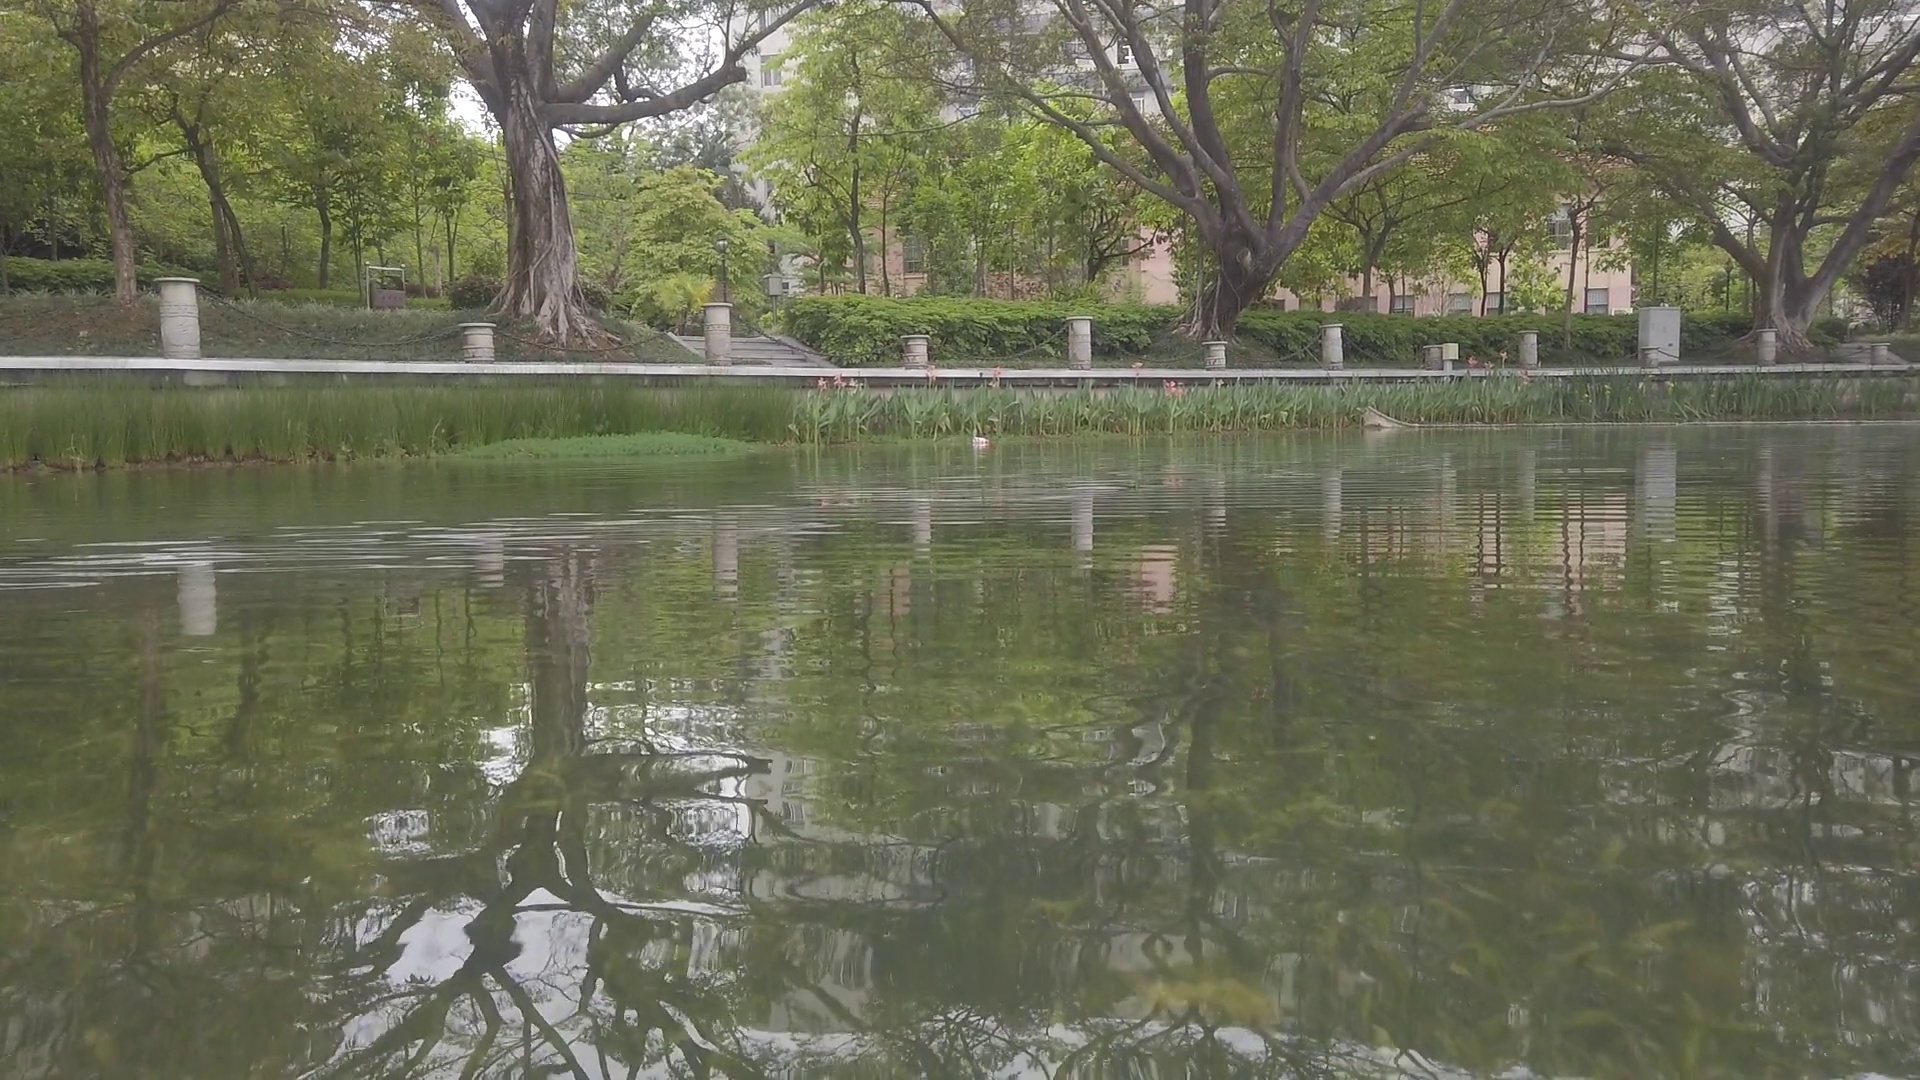bottle: (973, 435, 992, 444)
